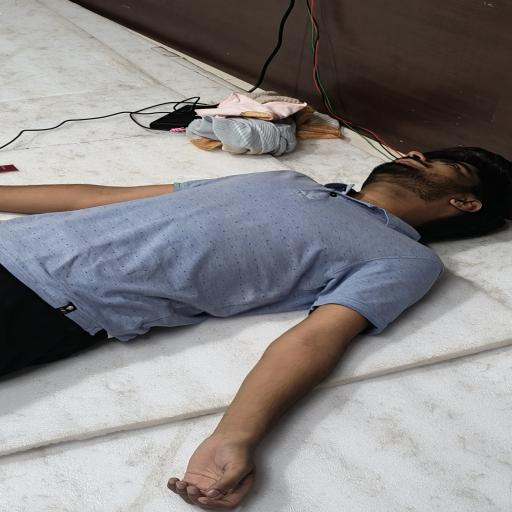survivor: (0, 146, 512, 510)
